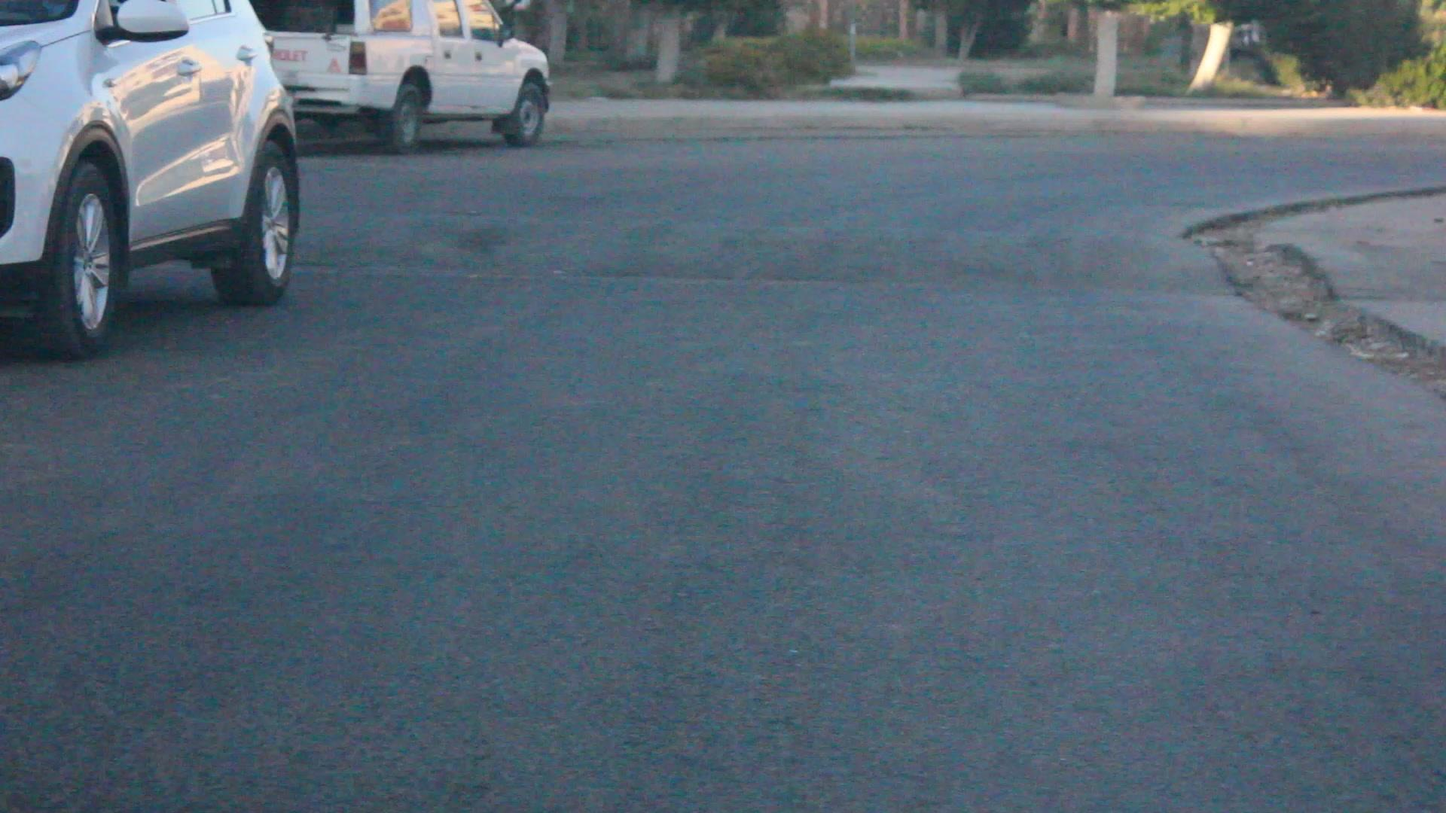Bump: (299, 194, 1207, 284)
